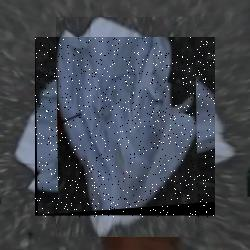restaffald: (35, 38, 215, 218)
